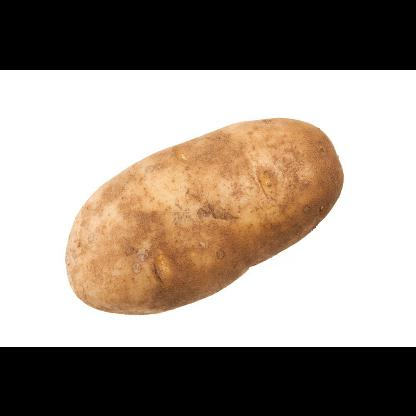potato: (65, 119, 343, 316)
